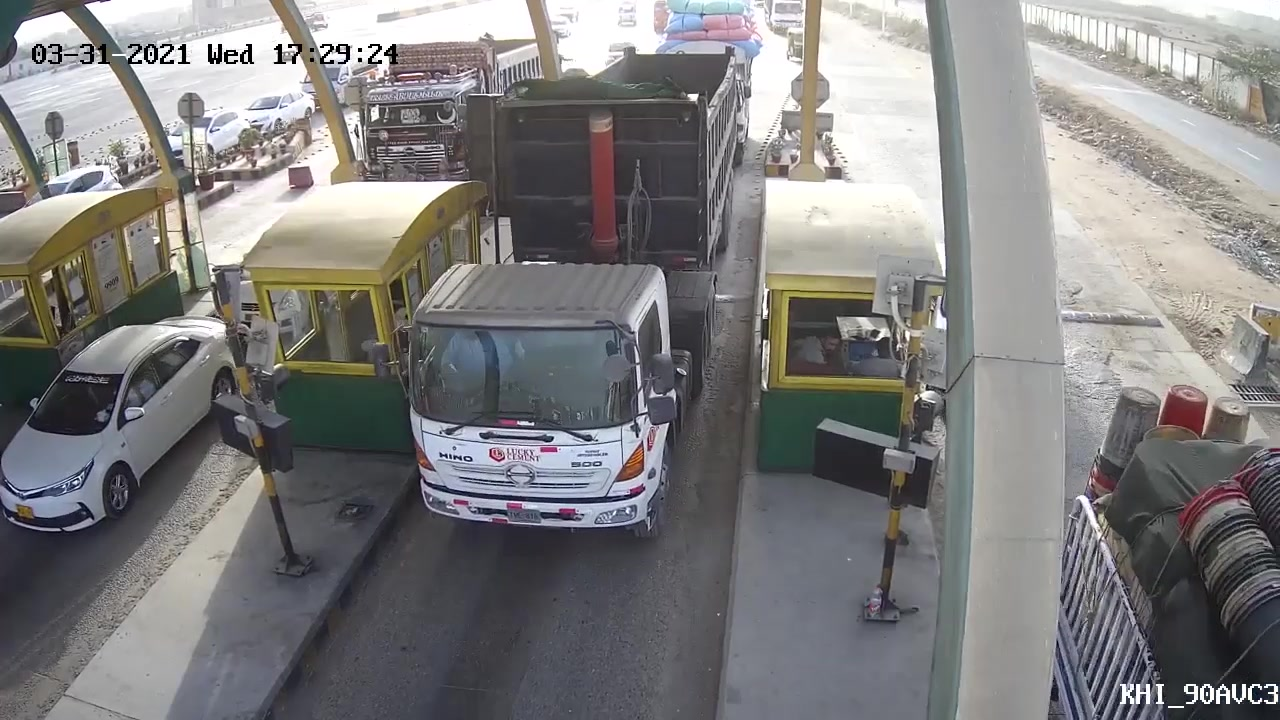F6: (395, 91, 721, 546)
